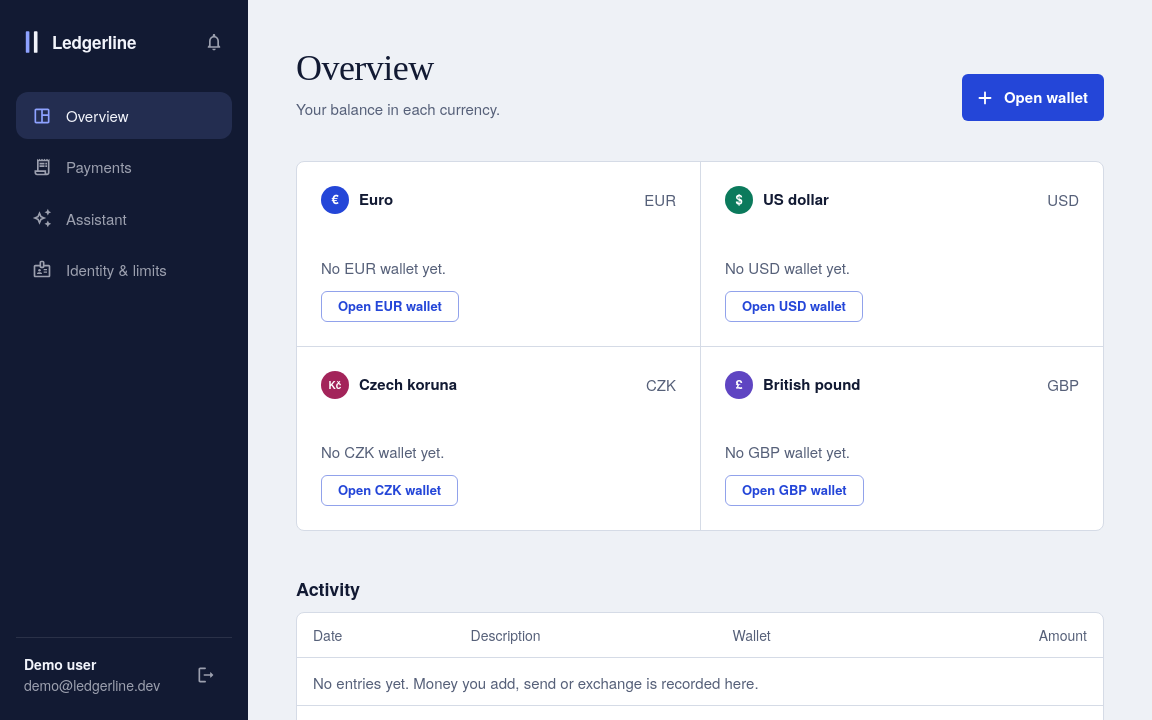
Test case: AppShell › shows who is signed in and signs out
The width and height of the screenshot is (1152, 720).
Expected: the text "demo@ledgerline.dev" is shown, [24,675,180,696]
Click the button named "Sign out".
click(206, 675)  # box [188,657,224,693]
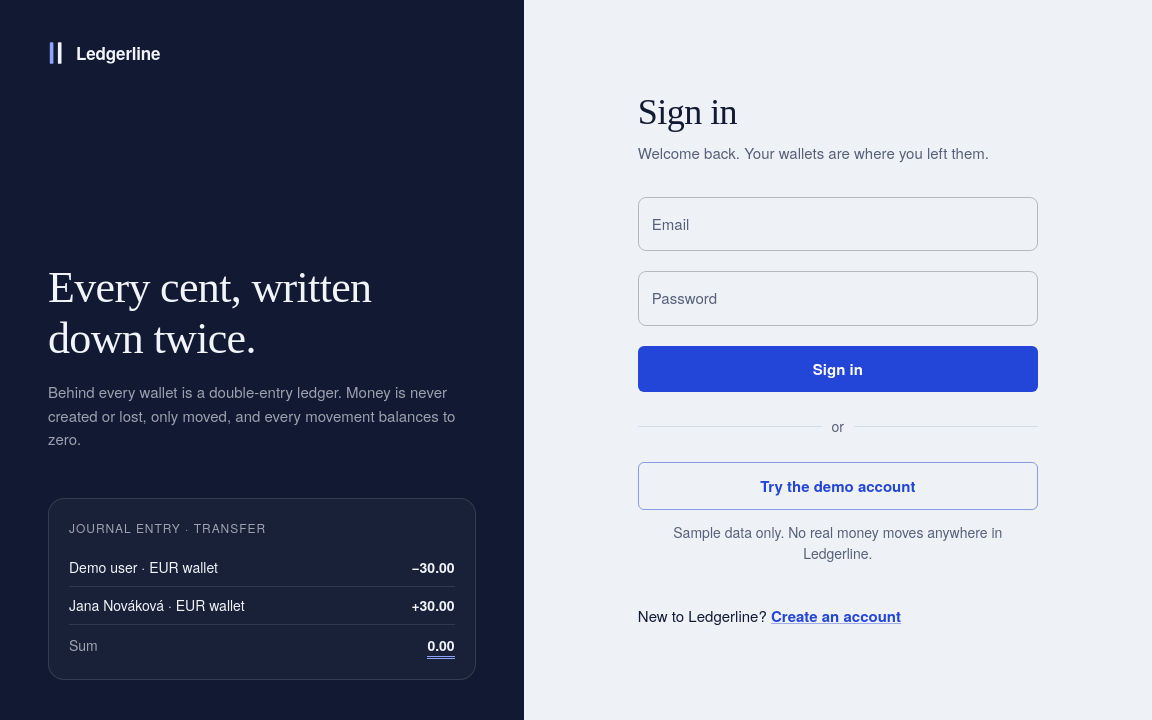
Expected: the heading "Sign in" is shown, [638,92,737,132]
